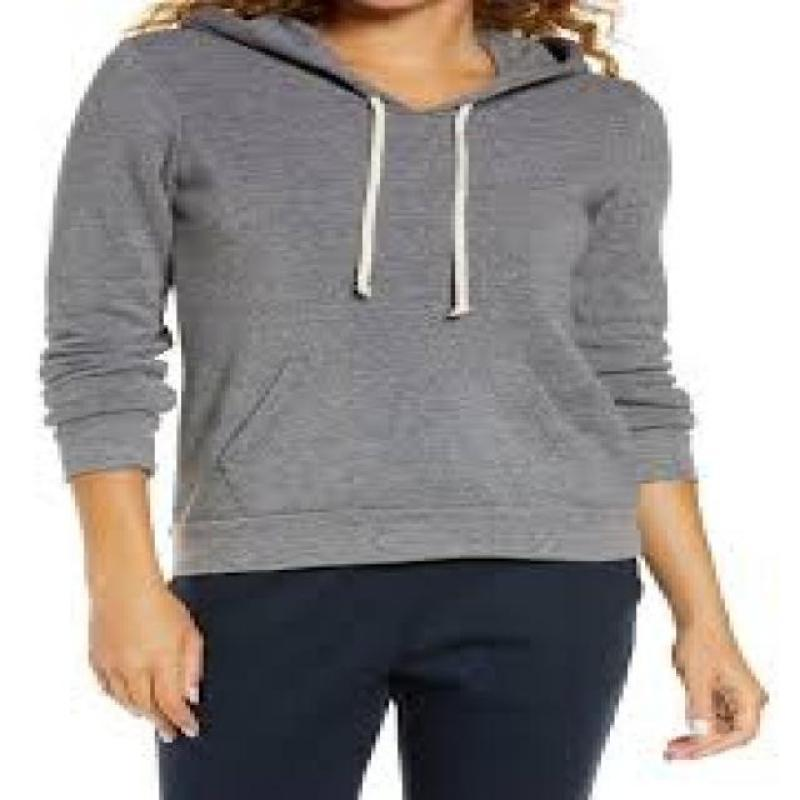sweater: (35, 5, 701, 577)
trousers: (155, 556, 646, 800)
